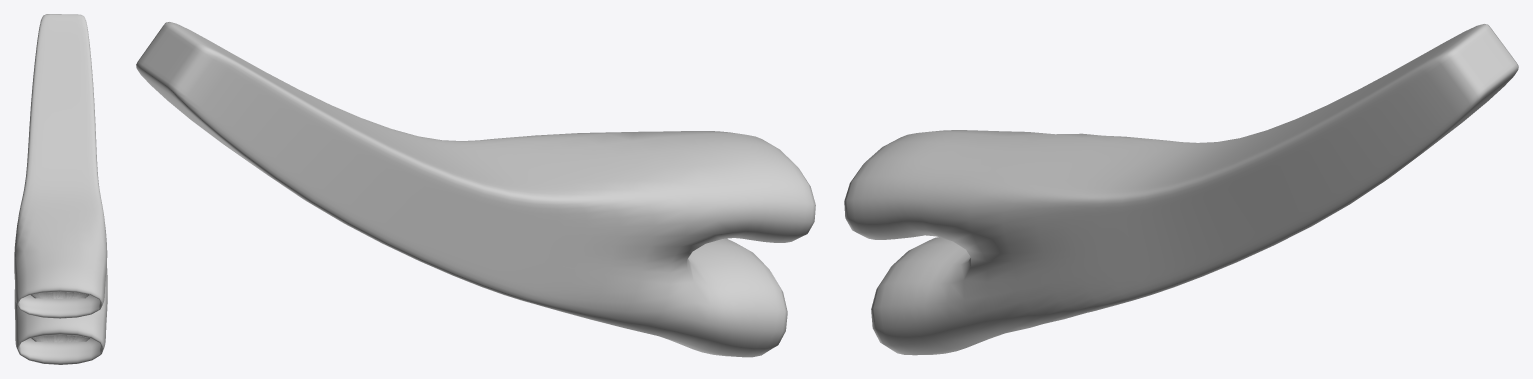
Rendered from SM_FPS_Counter_00.fbx.
The picture shows the model from 3 angles, left to right: view 1: azimuth 30°, elevation 25°; view 2: azimuth 150°, elevation 25°; view 3: azimuth 270°, elevation 25°; orthographic projection. The views are drawn at different scales.
Parts seen in each view (by area): view 1: SM_FPS_Counter_00; view 2: SM_FPS_Counter_00; view 3: SM_FPS_Counter_00.
Part boxes in pixels (x1,y1,x2,y2): SM_FPS_Counter_00: (14, 14, 107, 364); SM_FPS_Counter_00: (136, 22, 815, 357); SM_FPS_Counter_00: (844, 24, 1518, 355).
Bounding box in the file's own units: 233 × 240 × 335.
